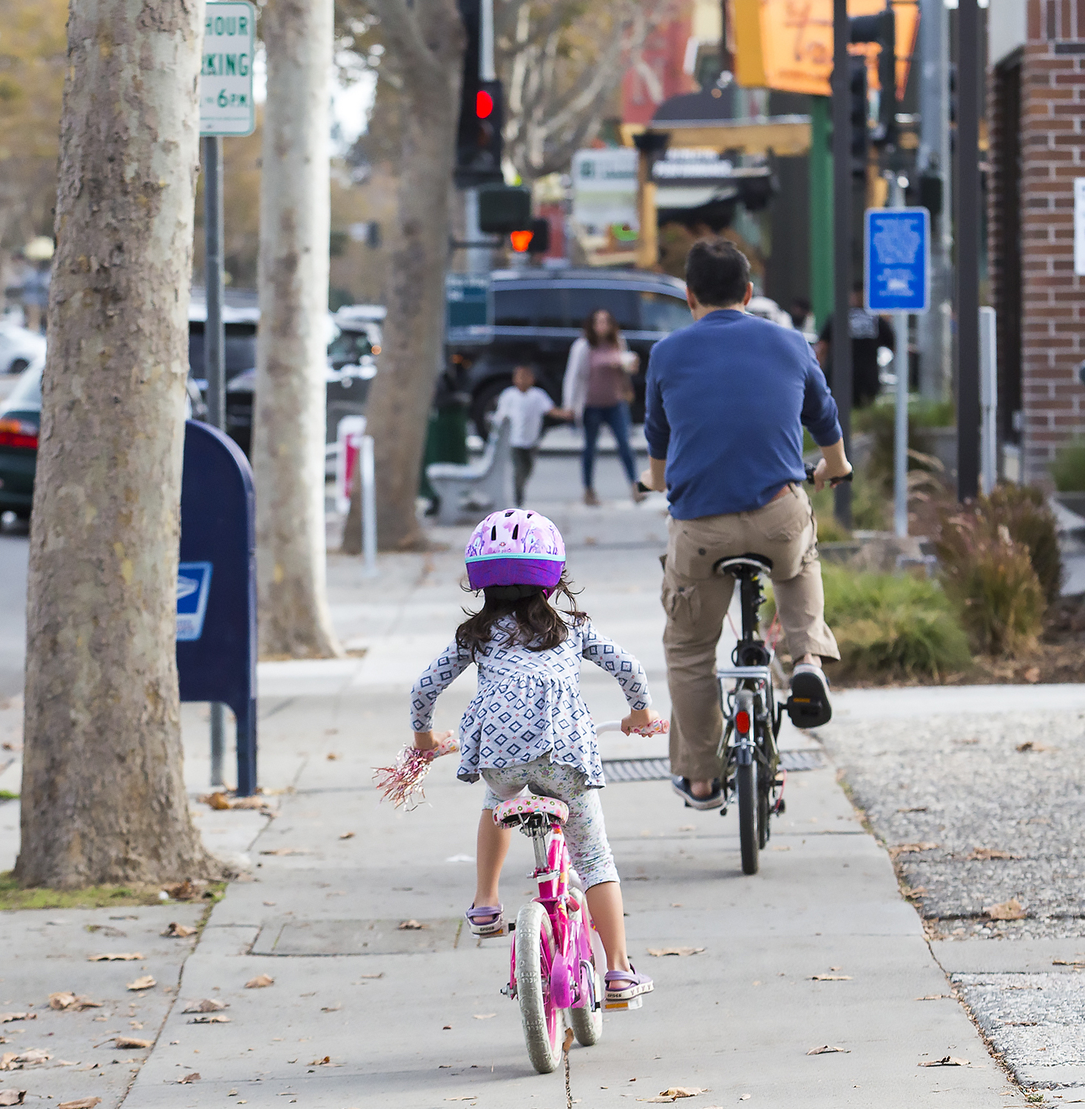Bicycle: (476, 793, 636, 1067), (677, 557, 814, 869)
Person: (564, 309, 649, 503)
TraficLight: (456, 77, 513, 194)
Tree: (36, 6, 207, 902)
